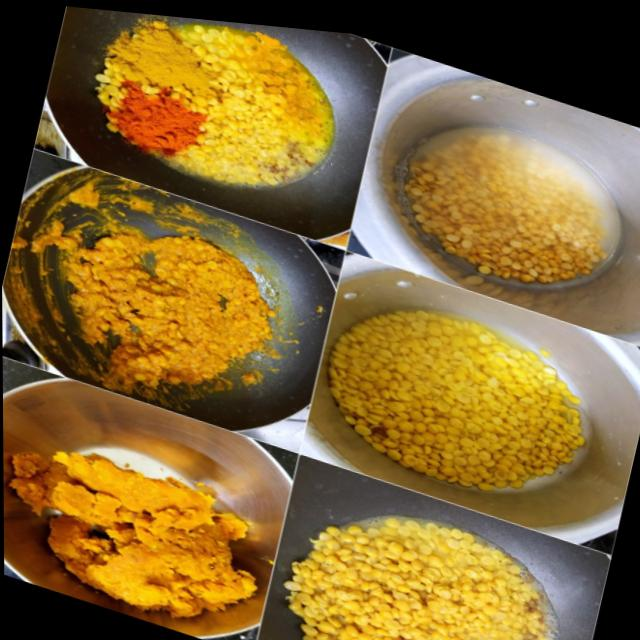DAL: (326, 310, 584, 490), (283, 519, 546, 640), (401, 141, 610, 281), (80, 233, 272, 383), (177, 23, 333, 181)
